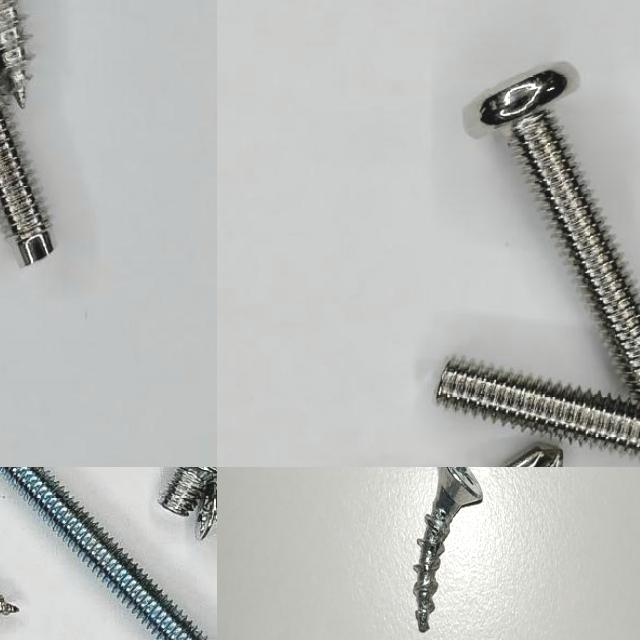Screw: (465, 62, 640, 397), (0, 467, 209, 640), (438, 359, 640, 454), (413, 467, 483, 631), (0, 105, 54, 264), (159, 467, 217, 516), (0, 0, 26, 108), (198, 487, 217, 540)
